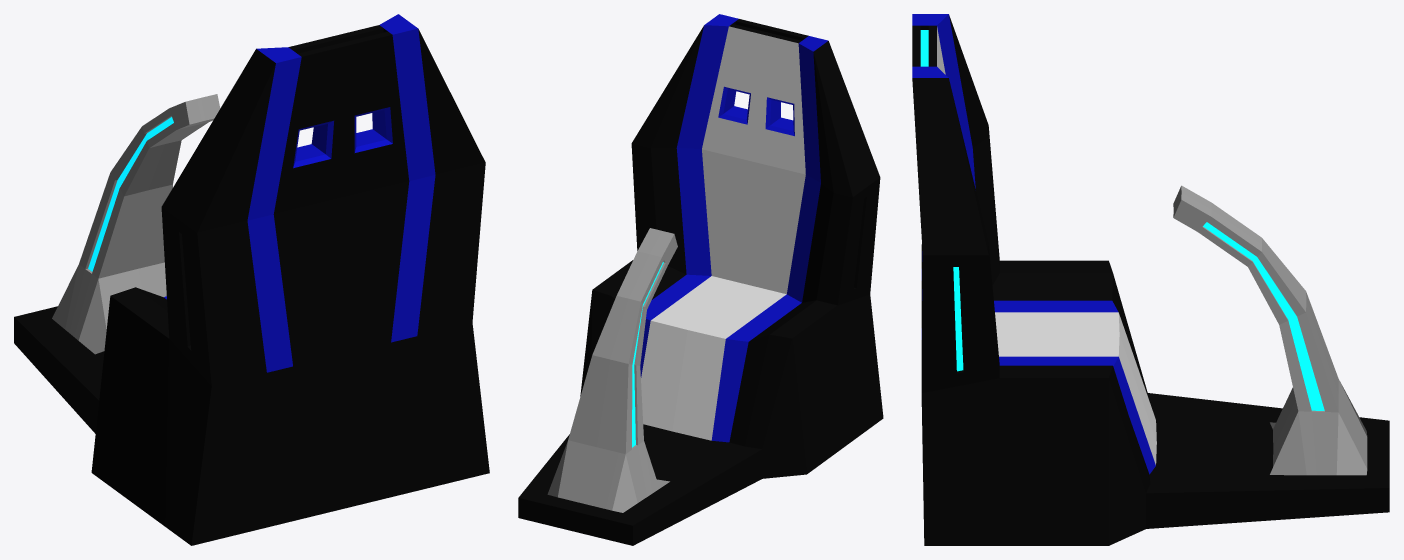
Rendered from Siege.fbx.
3 views of the same model, side by side, from view 1: azimuth 30°, elevation 25°; view 2: azimuth 150°, elevation 25°; view 3: azimuth 270°, elevation 25° (orthographic). The views are drawn at different scales.
Parts seen in each view (by area): view 1: Cube; view 2: Cube; view 3: Cube.
Boxes of the visible parts, <box> form: Cube: <box>14,14,489,545</box>; Cube: <box>518,14,883,545</box>; Cube: <box>912,14,1389,545</box>.
Bounding box in the file's own units: 80 × 120 × 120.
